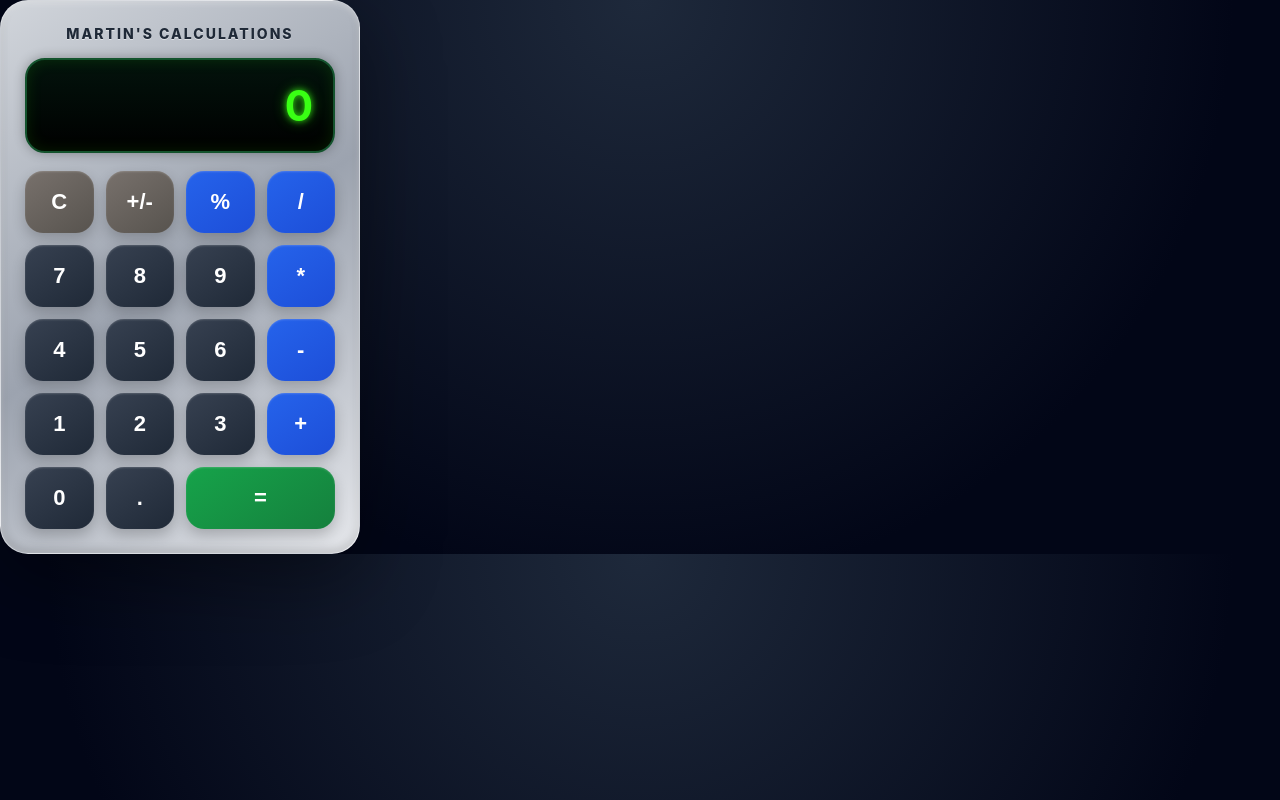
Test case: Calculator › concatena números en el display
Step 1. Click the button "1" → coordinates (59, 424), box [25, 393, 94, 455]
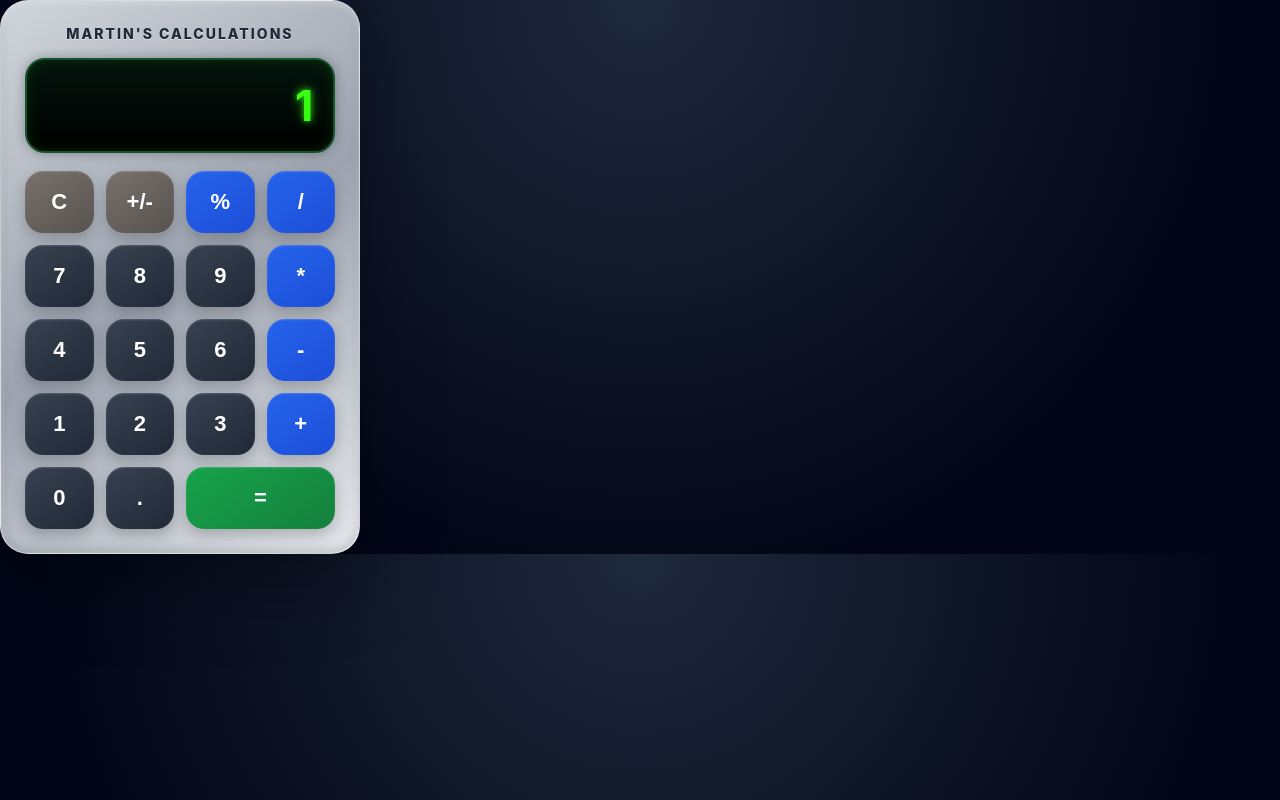
Step 2. Click the button "2" → coordinates (140, 424), box [106, 393, 174, 455]
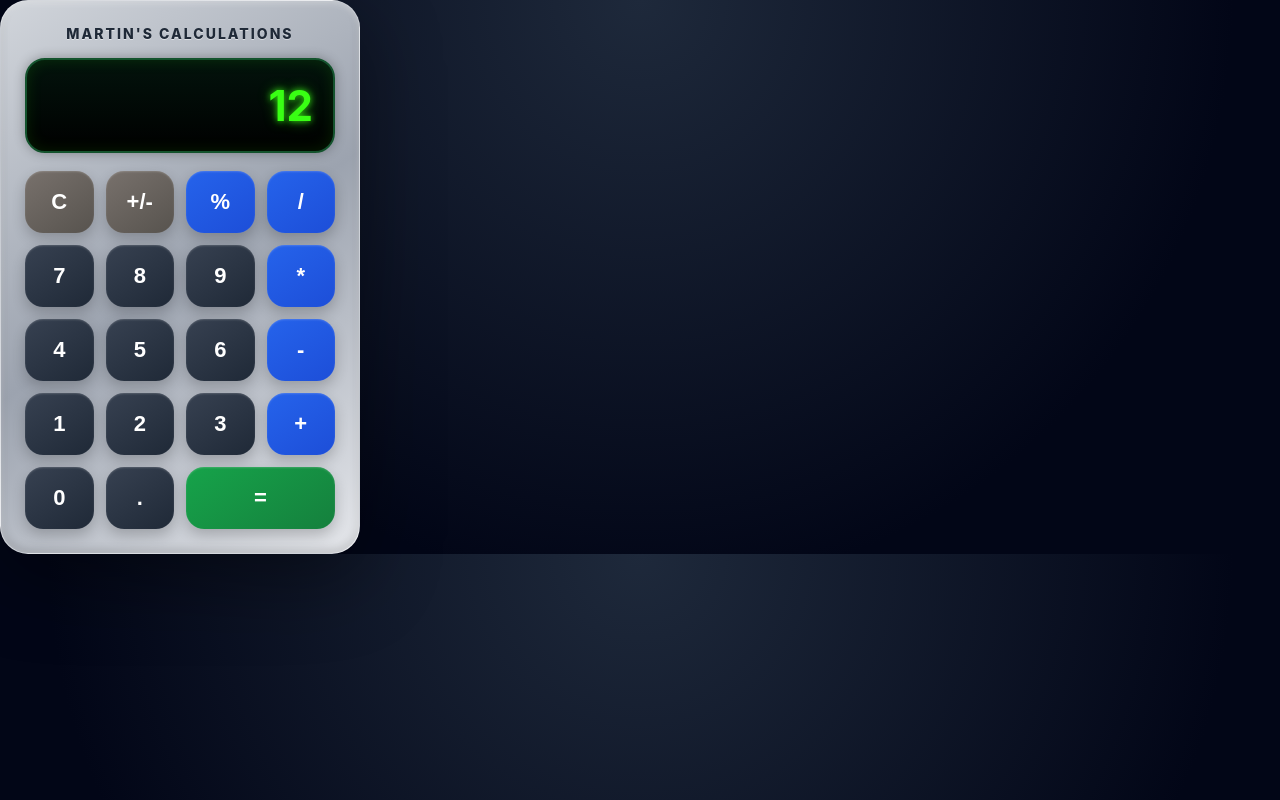
Step 3. Click the button "3" → coordinates (220, 424), box [186, 393, 254, 455]
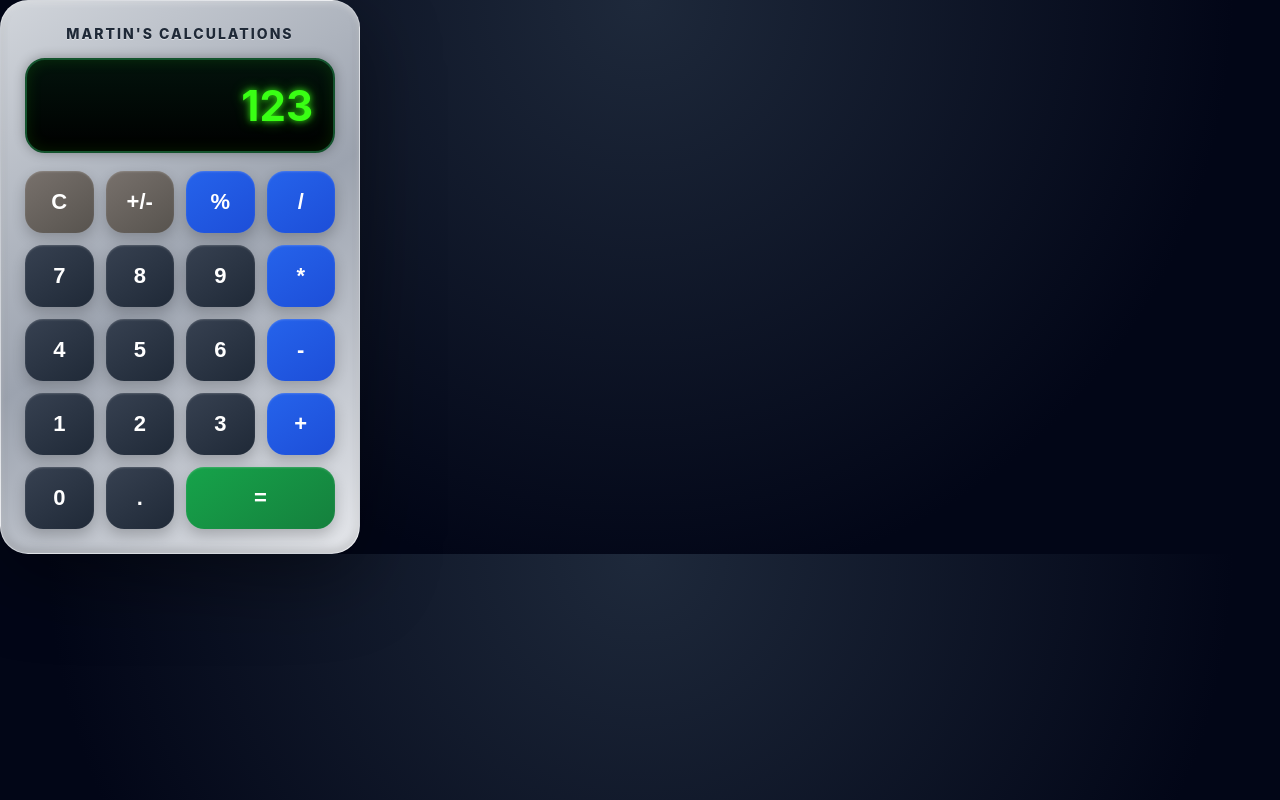
Check: the text named "Pantalla de la calculadora" reads "123", box [241, 80, 313, 131]
